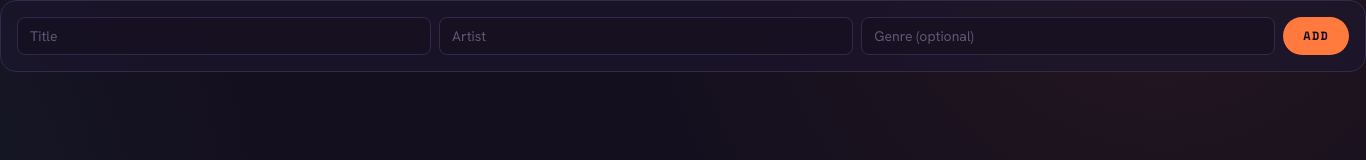
Test: AddSongForm › requires title and artist
Click the button "Add" at (1316, 36), box [1283,17,1349,55]
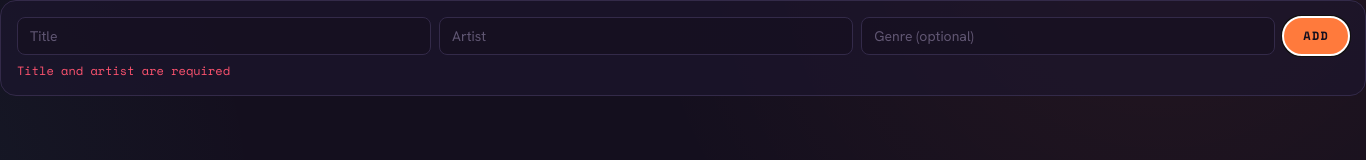
Check: the text "Title and artist are required" is shown, box [17,62,230,79]
